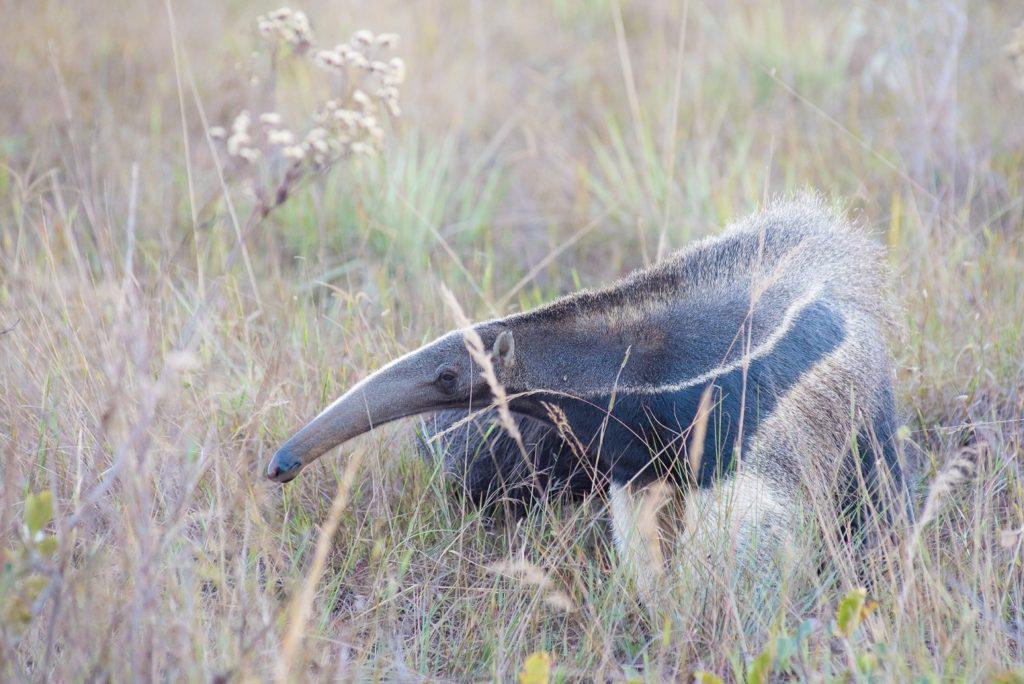TamanduaBandeira: (258, 187, 946, 626)
